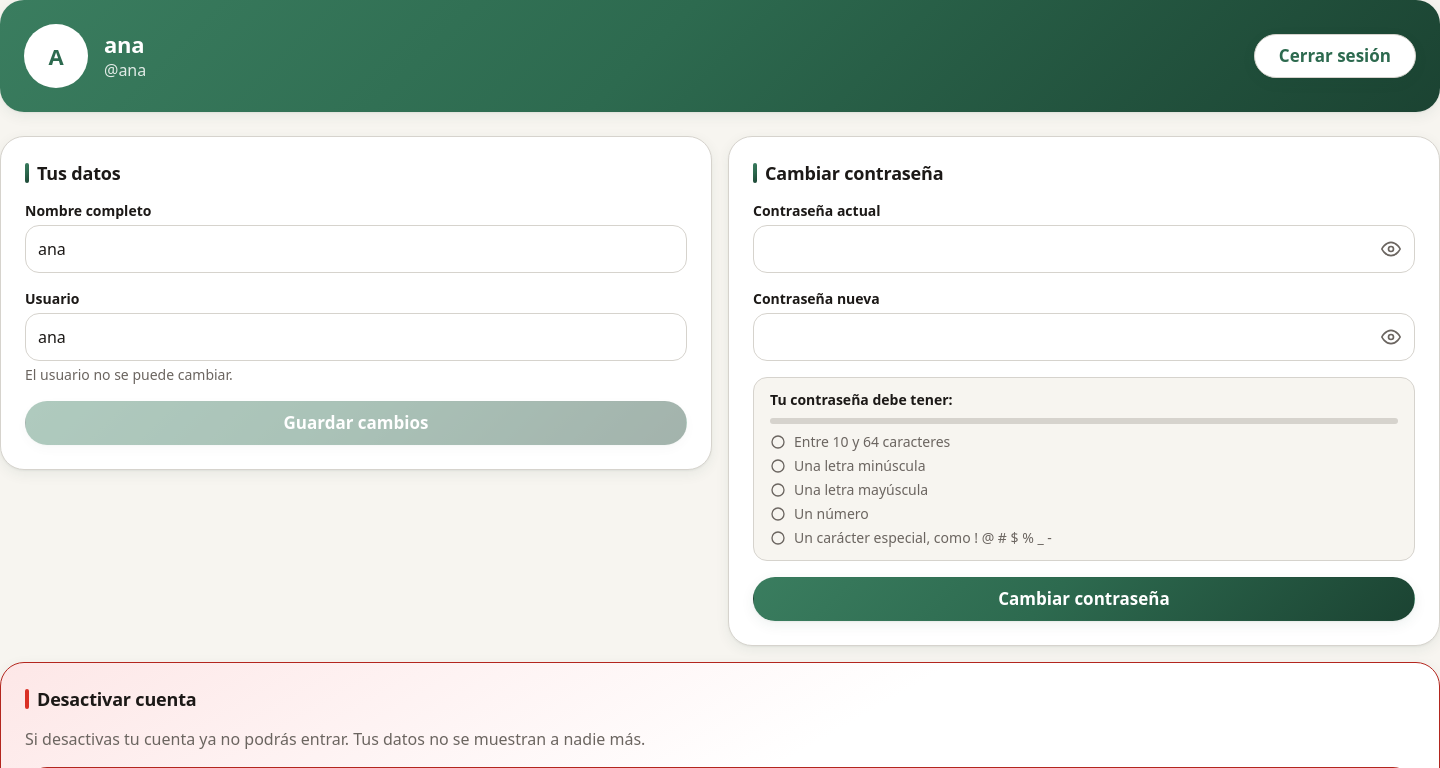
it: Account › changes the password and clears the fields
The width and height of the screenshot is (1440, 768).
Type "clave-demo-123" into the password field labelled "Contraseña actual".
click(1062, 249); type("clave-demo-123")  # box [754, 226, 1369, 272]
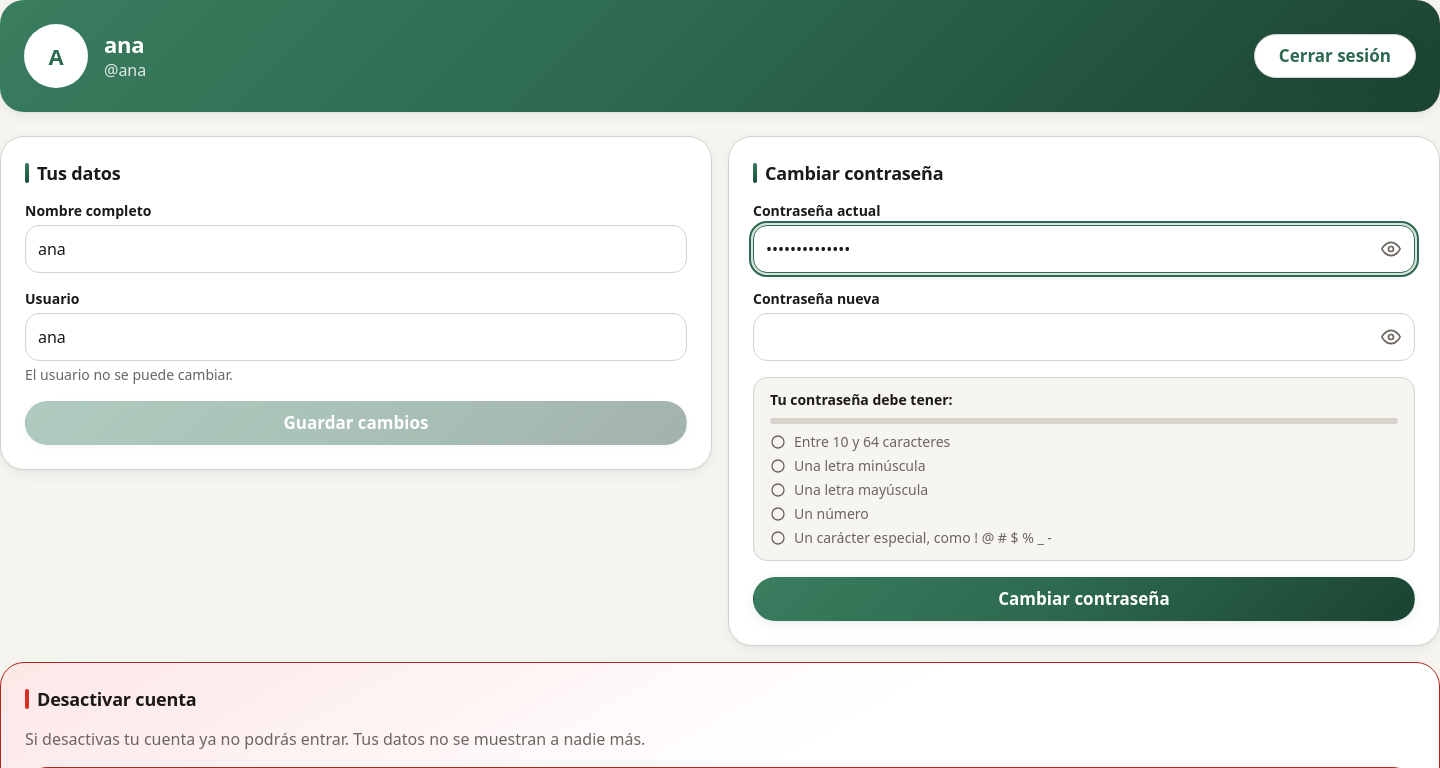
Type "Otra-clave-456!" into the password field labelled "Contraseña nueva".
click(1062, 337); type("Otra-clave-456!")  # box [754, 314, 1369, 360]
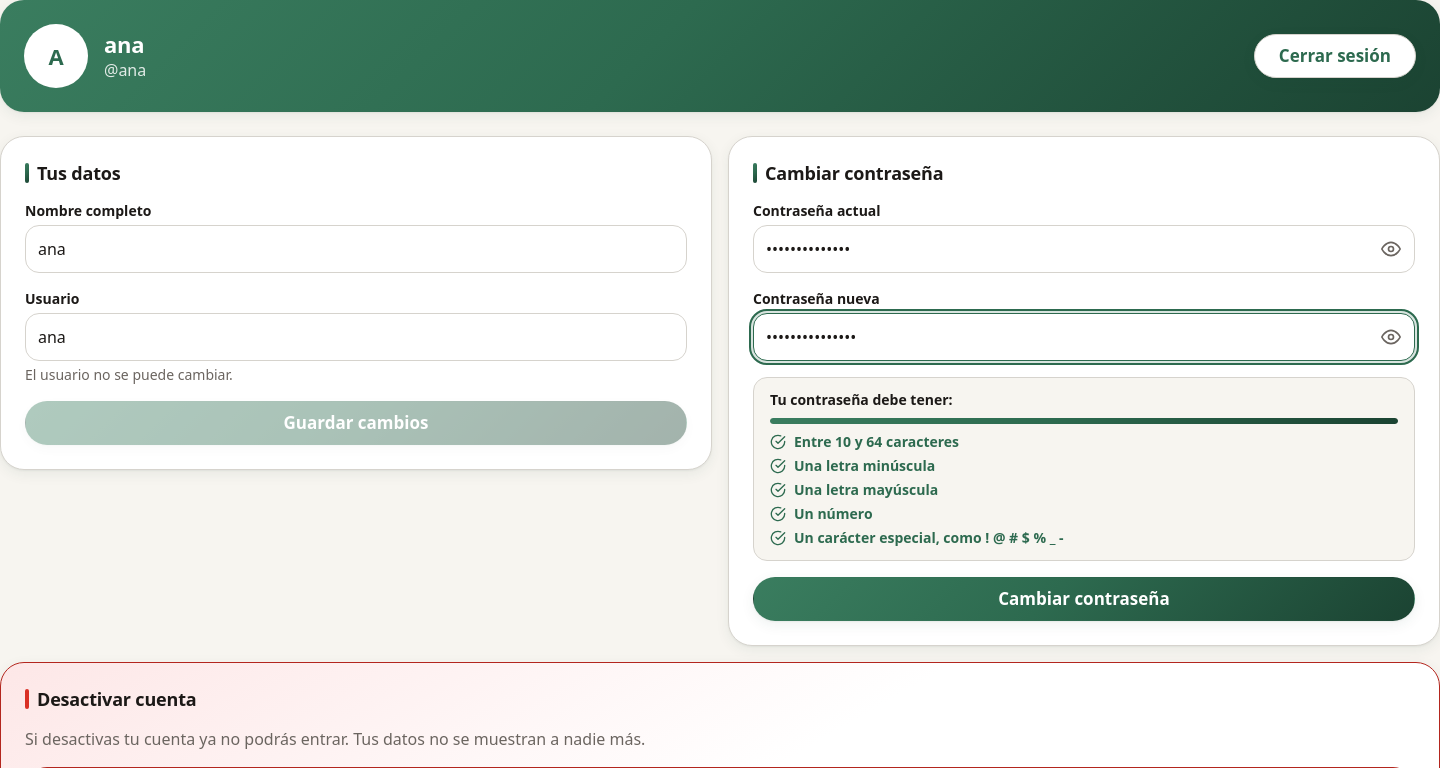
Click the button "Cambiar contraseña".
click(1084, 599)  # box [753, 577, 1415, 621]
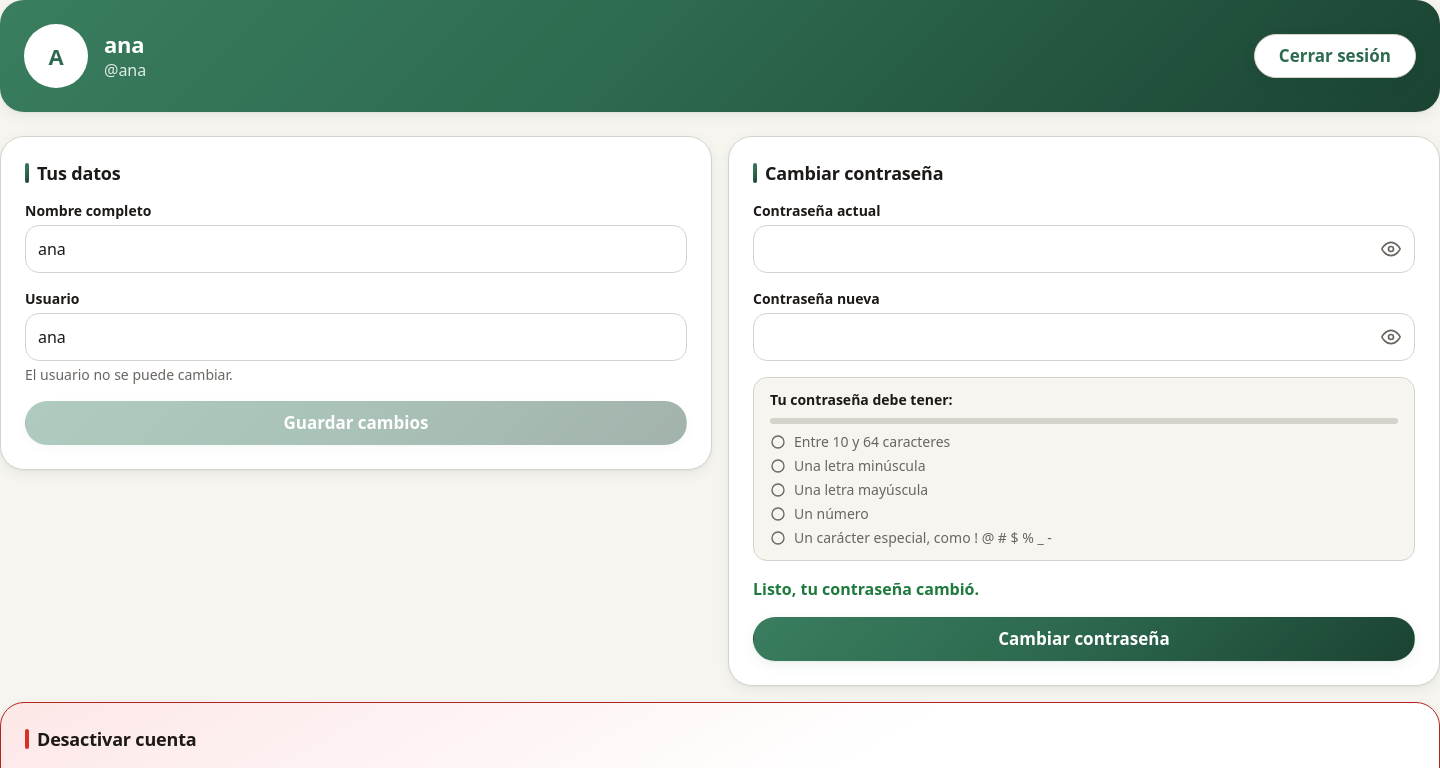
Expected: the text "Listo, tu contraseña cambió." is shown, [753, 578, 979, 600]
Expected: the password field labelled "Contraseña actual" is empty, [754, 226, 1369, 272]
Expected: the password field labelled "Contraseña nueva" is empty, [754, 314, 1369, 360]
